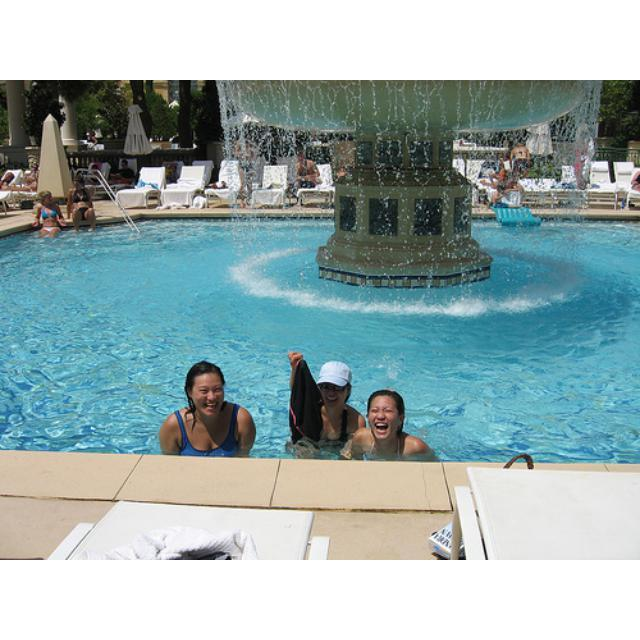human: (153, 361, 257, 460), (286, 355, 369, 451), (352, 388, 435, 462)
